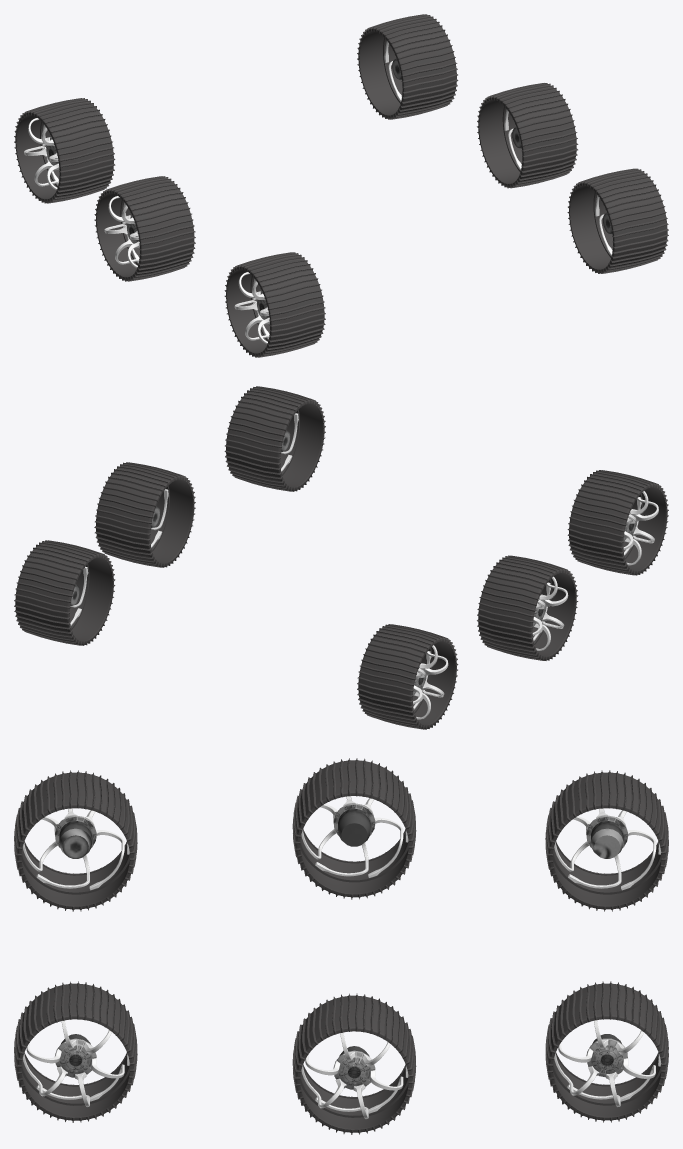
The model's file is perseverance-wheels.glb.
The picture shows the model from 3 angles, top to bottom: view 1: azimuth 30°, elevation 25°; view 2: azimuth 150°, elevation 25°; view 3: azimuth 270°, elevation 25°; orthographic projection. The views are drawn at different scales.
Visible parts, largest first — view 1: Wheels_objs_8; view 2: Wheels_objs_8; view 3: Wheels_objs_8.
Boxes of the visible parts, box(x1,y1,x2,y2) form: Wheels_objs_8: box(14, 14, 668, 357); Wheels_objs_8: box(14, 386, 668, 729); Wheels_objs_8: box(14, 758, 668, 1134).
Size of the model in its own units: 2.7 by 0.5259 by 2.79.
Materials: 3 (1 with a texture image).
